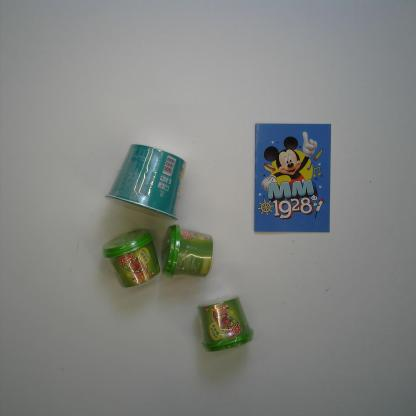Instant Drink: (101, 226, 160, 291), (197, 294, 255, 356), (158, 223, 214, 281)
Instant Noodles: (103, 142, 187, 223)
Stationery: (252, 121, 331, 236)
